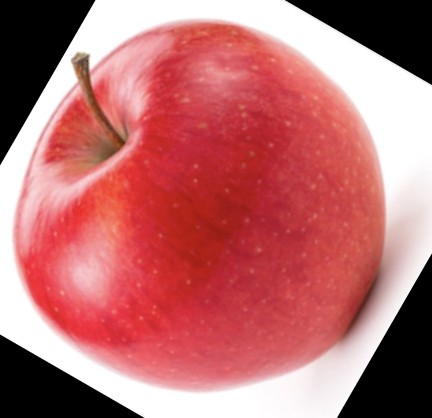fresh_apple: (13, 17, 387, 389)
